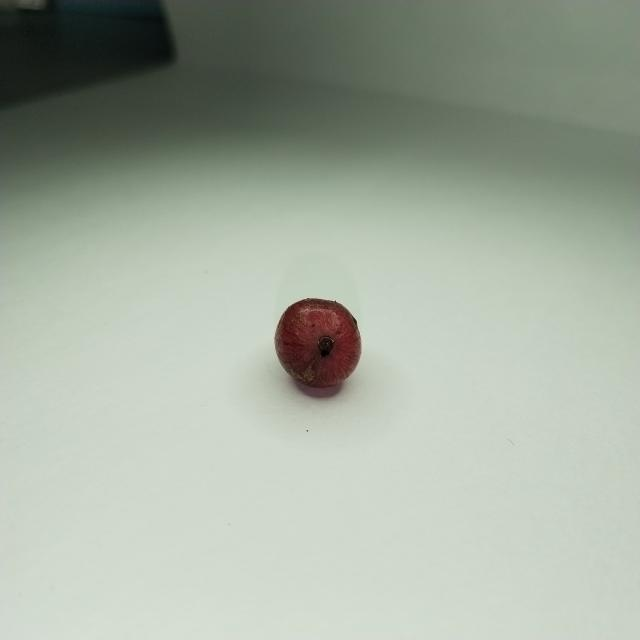Infectado: (275, 298, 363, 385)
